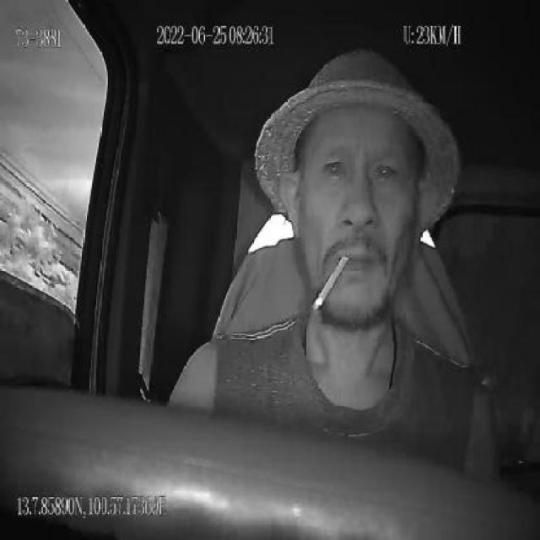smoking: (312, 253, 349, 317)
